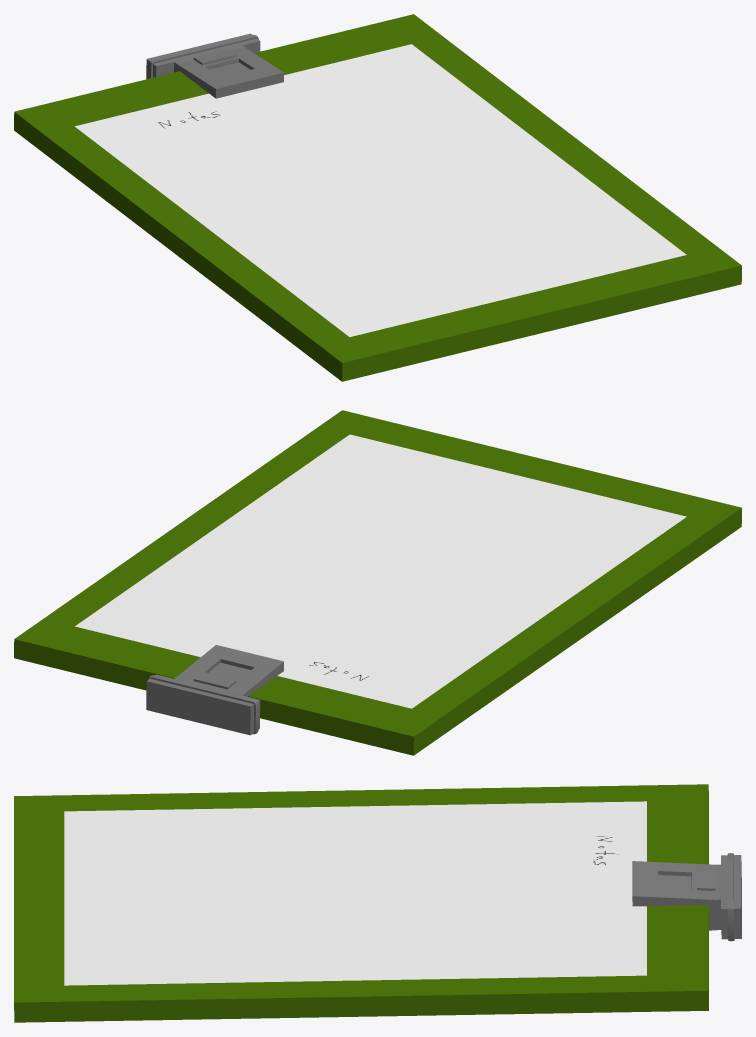
File: FbxClipboard.fbx
3 renders of one model, top to bottom at view 1: azimuth 30°, elevation 25°; view 2: azimuth 150°, elevation 25°; view 3: azimuth 270°, elevation 25°, orthographic. The views are drawn at different scales.
Visible parts, largest first — view 1: clipboard; view 2: clipboard; view 3: clipboard.
Boxes of the visible parts, x1,y1,x2,y2 form: clipboard: [14, 14, 741, 381]; clipboard: [14, 410, 741, 755]; clipboard: [14, 784, 741, 1022].
Size of the model in its own units: 8.87 by 0.8184 by 13.22.
3 materials, 1 textured.
